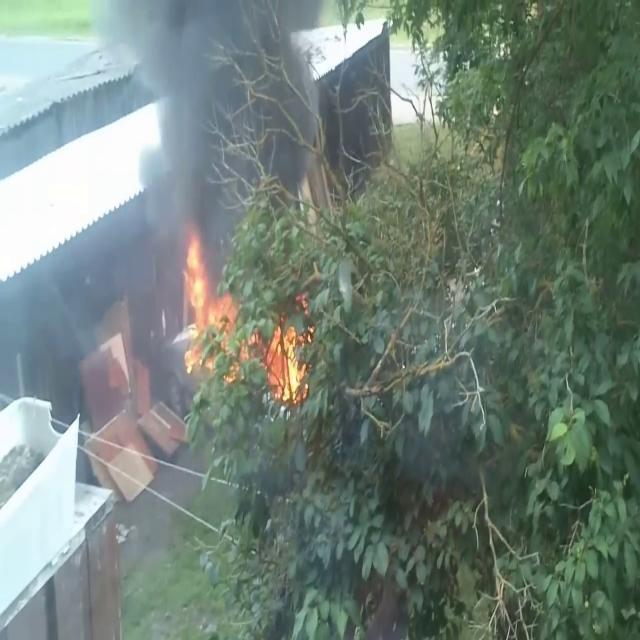Fire: (178, 226, 236, 368), (266, 315, 310, 408)
Smoke: (143, 2, 237, 264)
